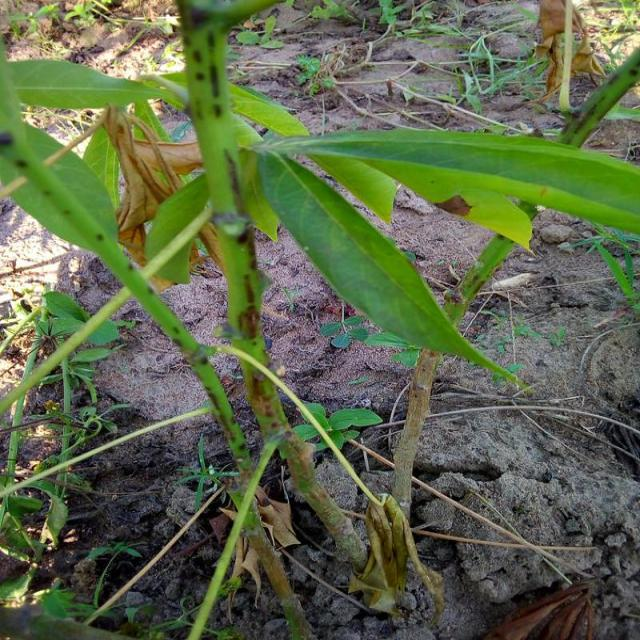cassava leaf: (246, 142, 526, 389), (247, 124, 639, 247)
